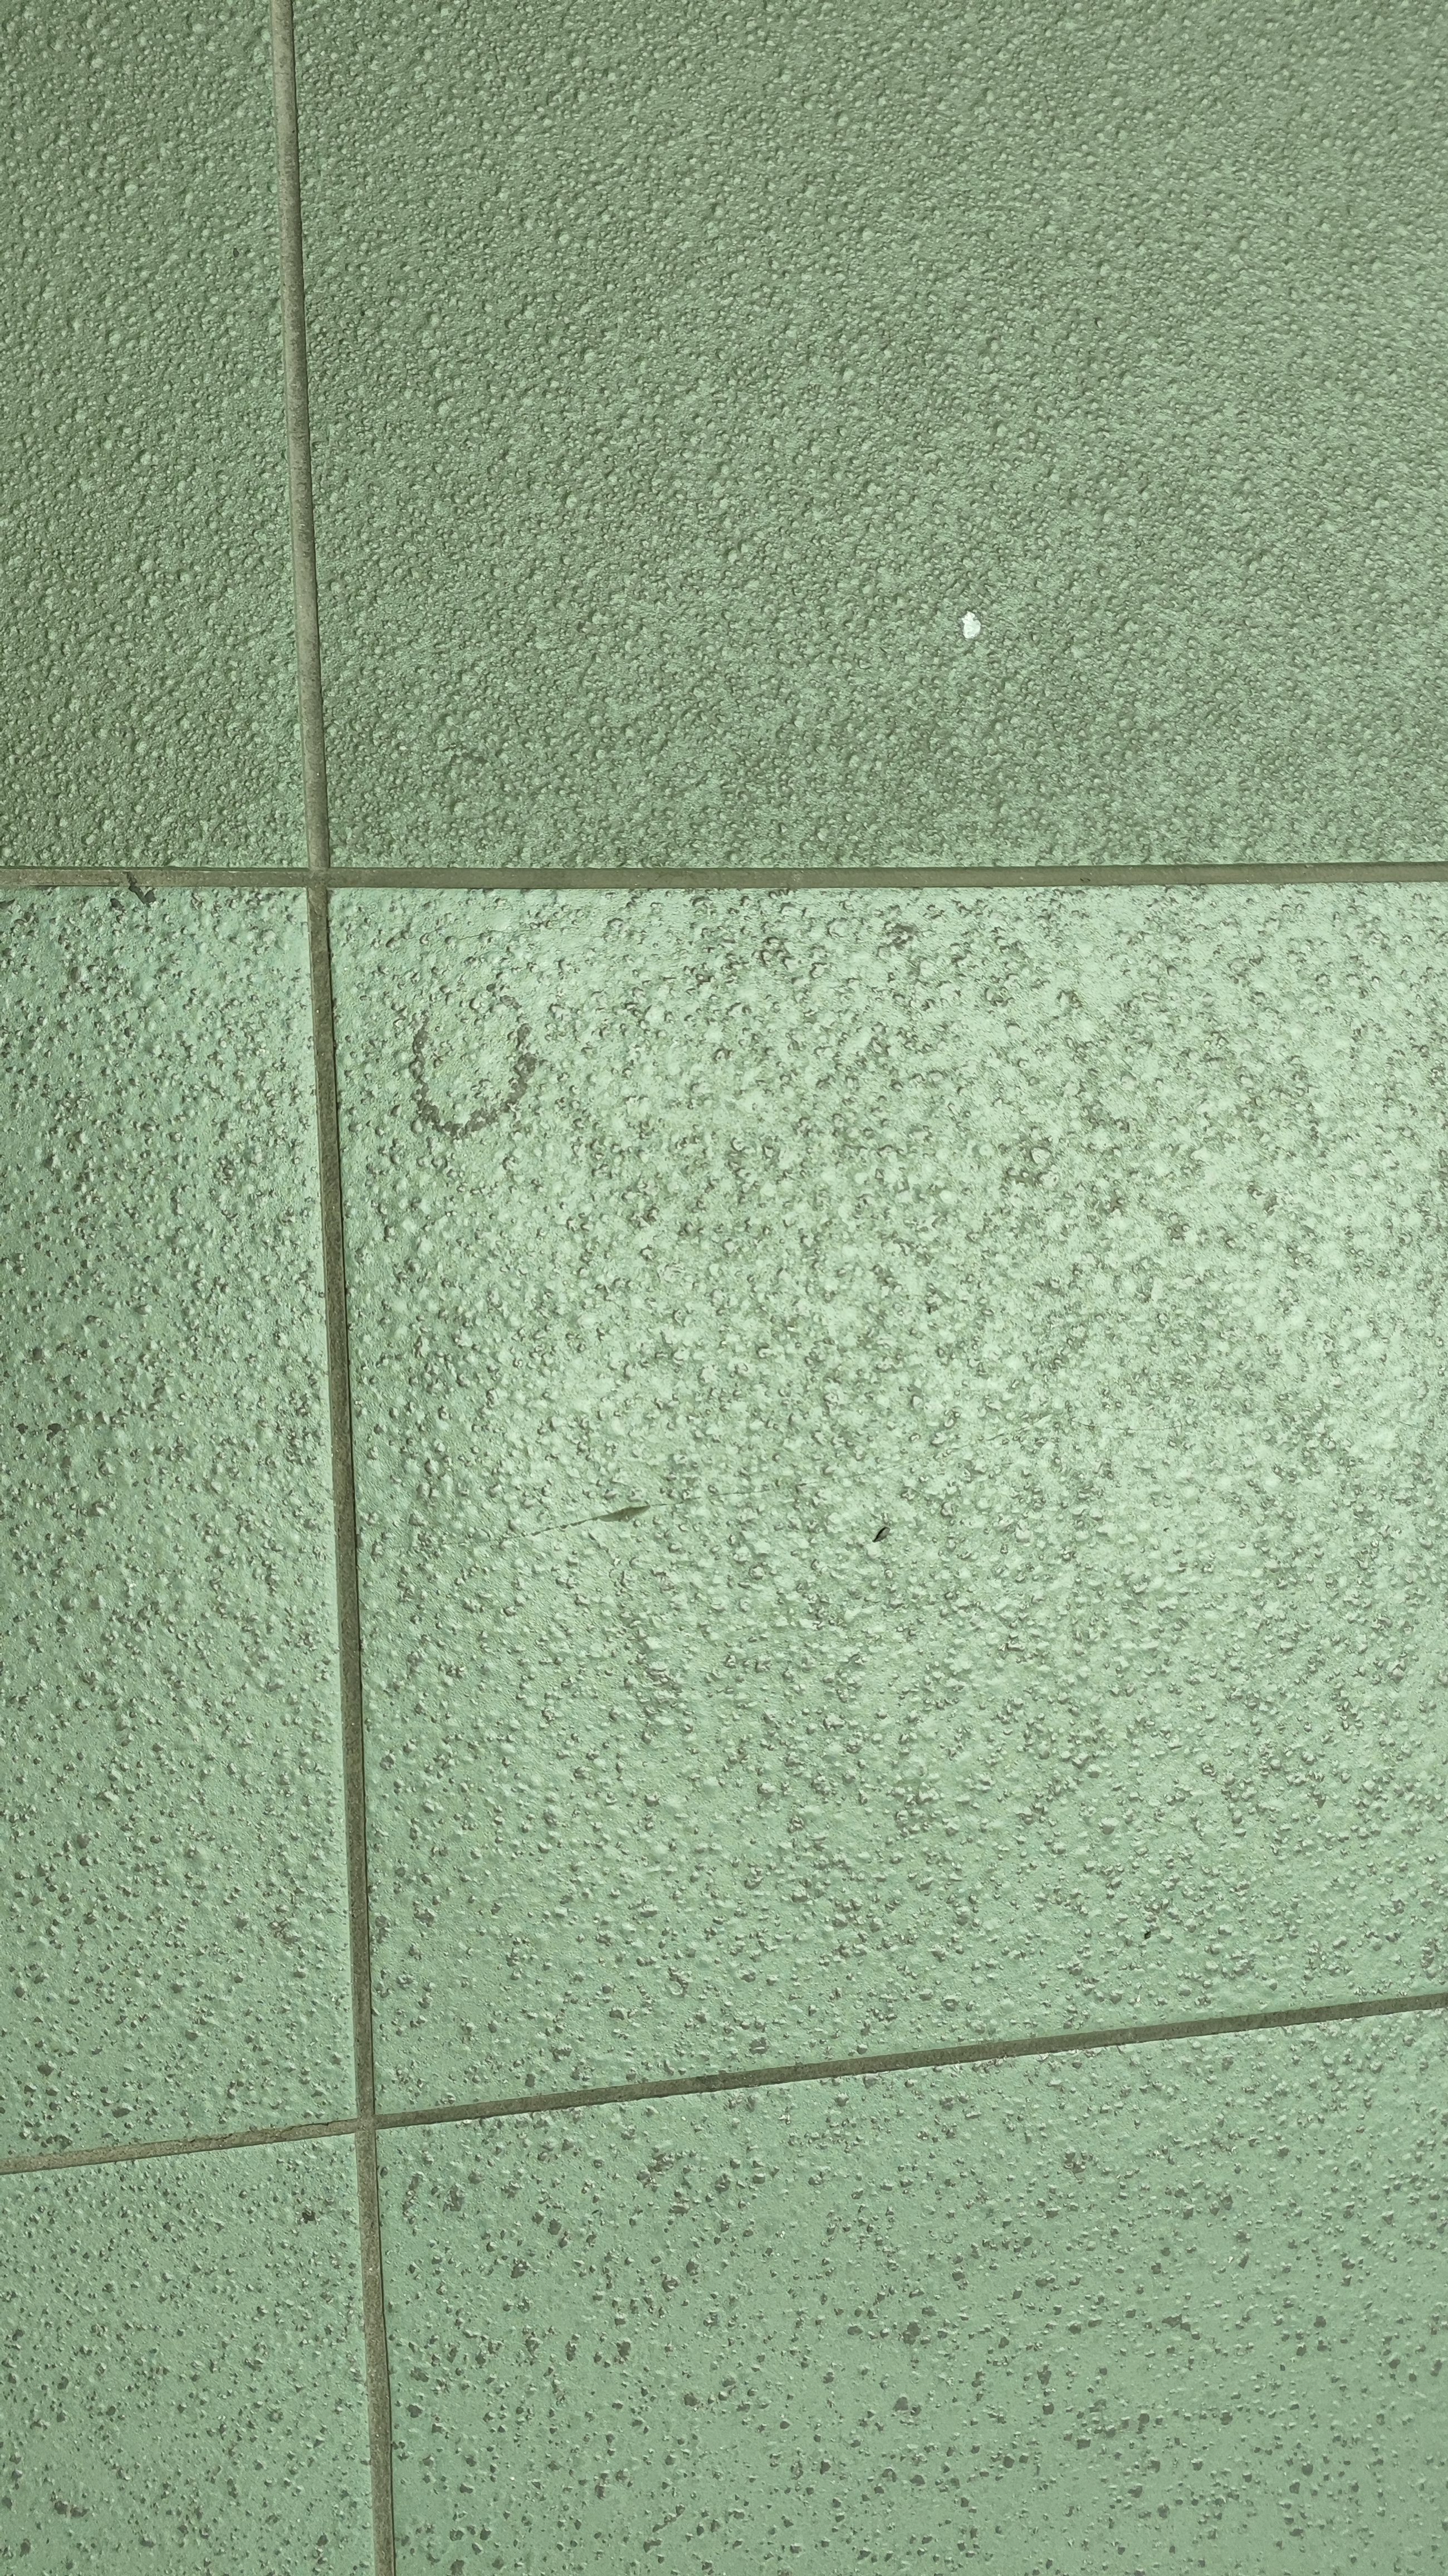Defect: (440, 1500, 661, 1546), (670, 1486, 796, 1507)
Stain: (408, 989, 541, 1143), (103, 872, 164, 918), (870, 1527, 898, 1548)
